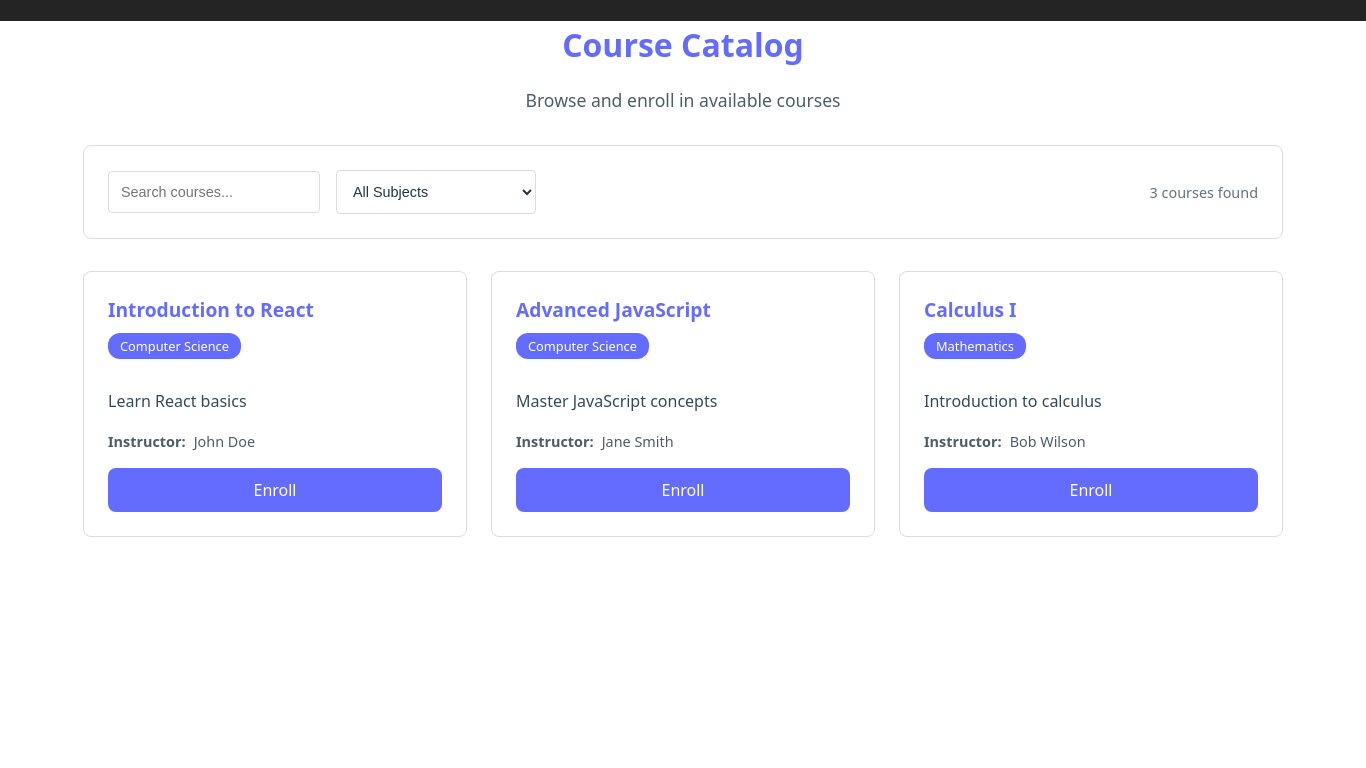
Test: CourseCatalog › updates course count when filtering
Expected: the text "3 courses found" is shown, [1150,182,1258,203]
Type "JavaScript" into the field with placeholder "Search courses..." at [214, 192], box [108,171,320,213]
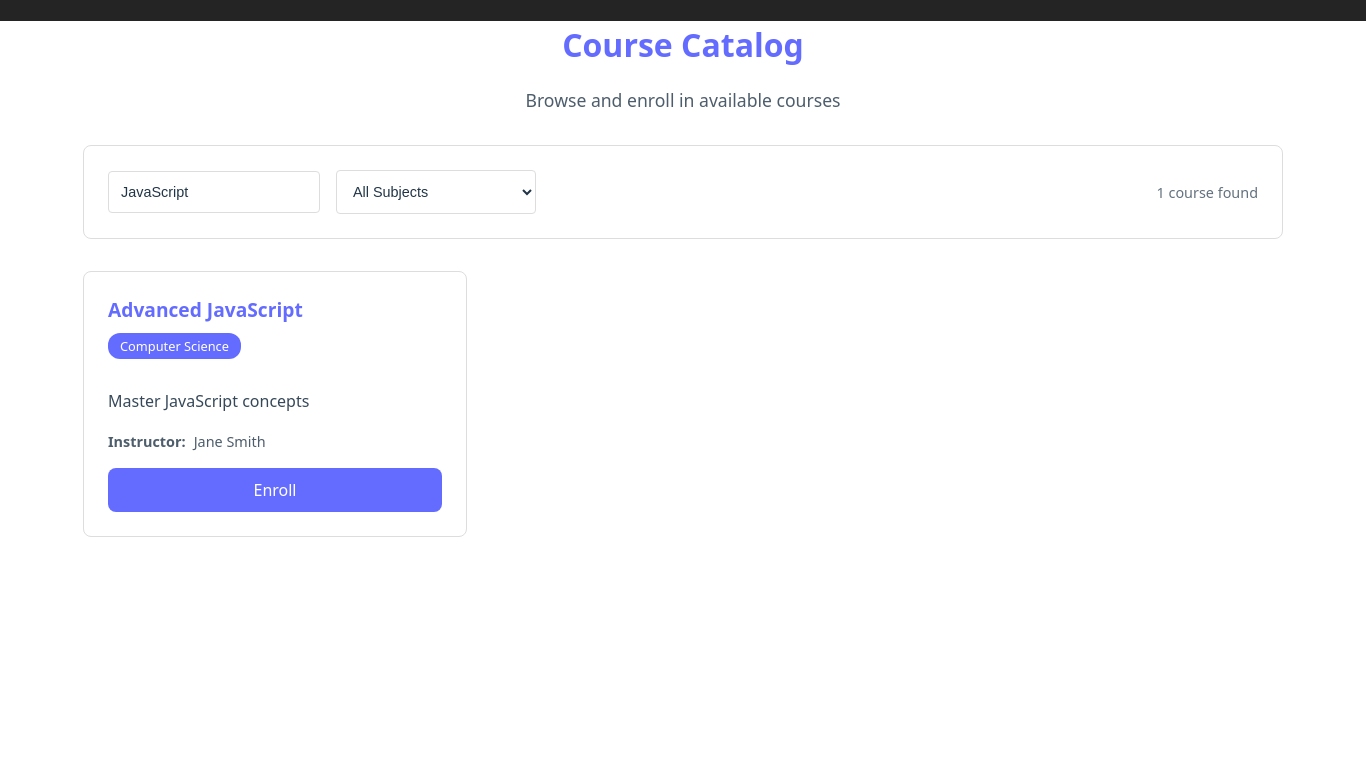
Expected: the text "1 course found" is shown, [1156,182,1258,203]
